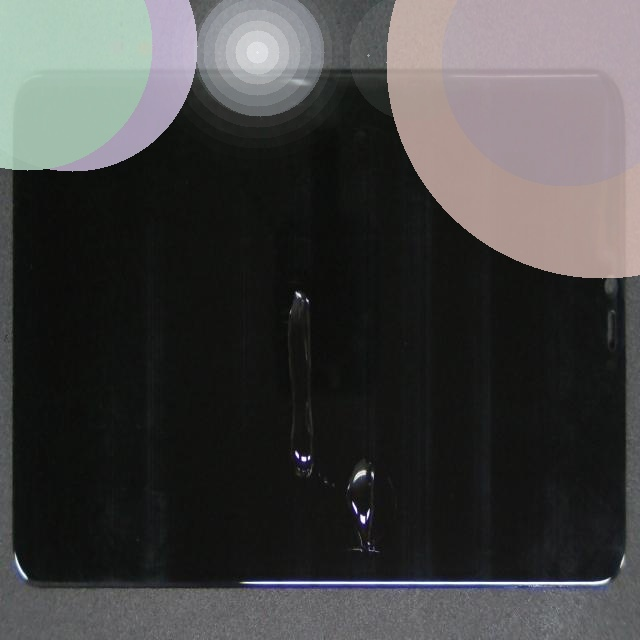oil: (203, 235, 566, 640), (163, 273, 483, 628)
